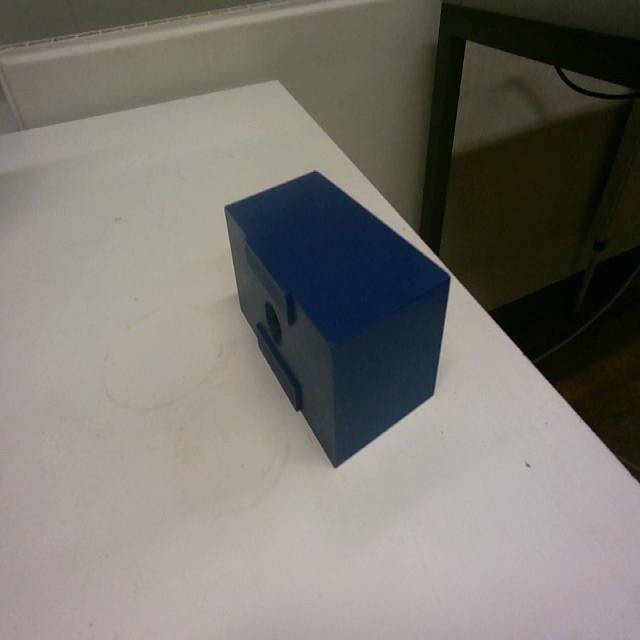Blue Cuboid: (221, 165, 452, 468)
